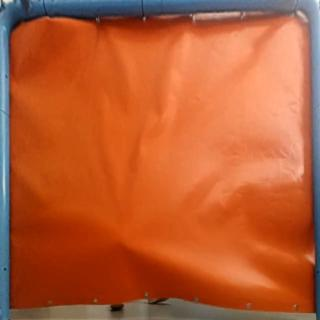Hit-hRxx: (115, 234, 129, 248)
